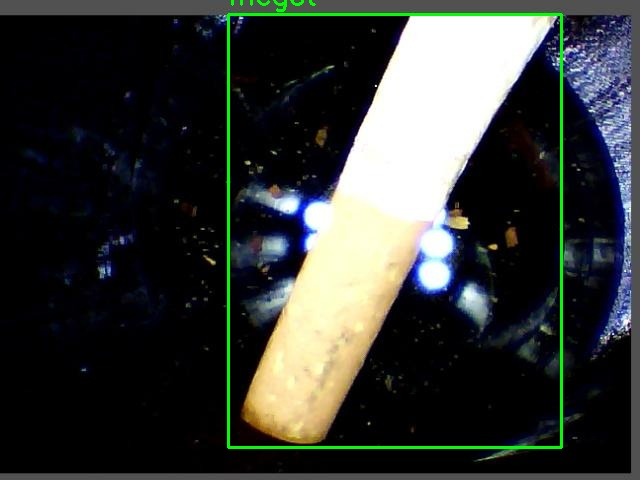megot: (228, 14, 561, 447)
